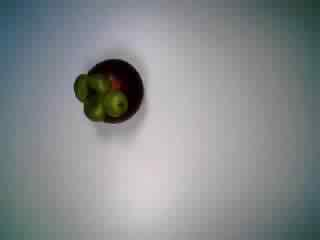mangosteen: (70, 53, 147, 128)
